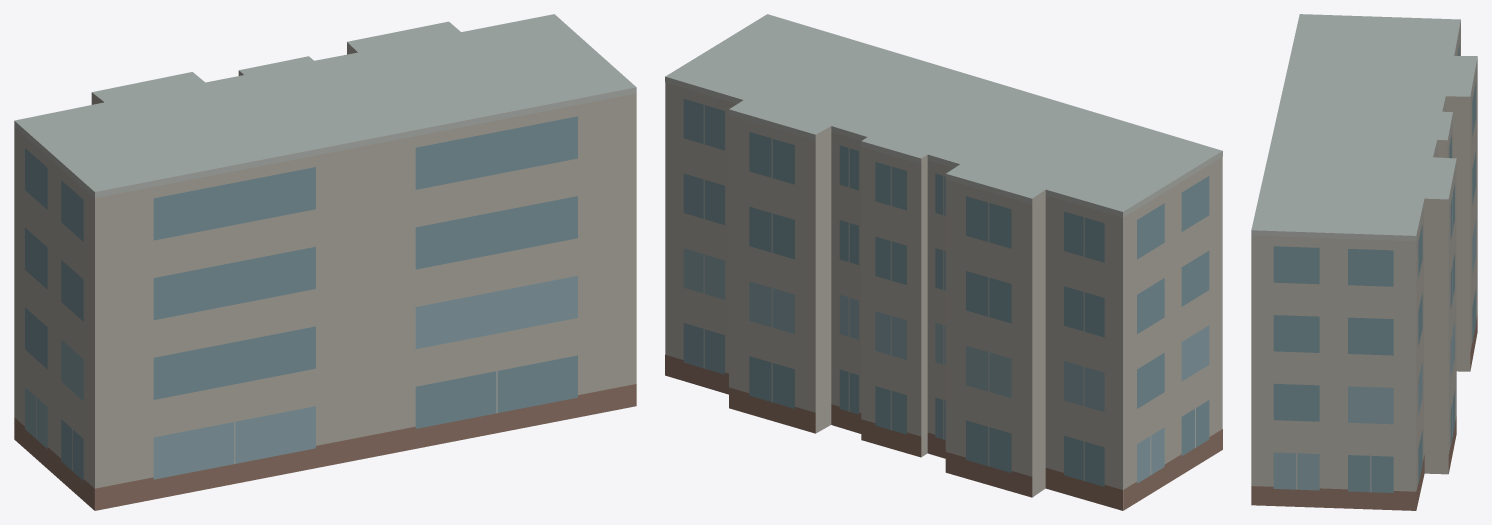
File: survey-upis-32805384.glb
The picture shows the model from 3 angles, left to right: view 1: azimuth 30°, elevation 25°; view 2: azimuth 150°, elevation 25°; view 3: azimuth 270°, elevation 25°; orthographic projection. The views are drawn at different scales.
Visible parts, largest first — view 1: survey-upis-32805384.tmp; view 2: survey-upis-32805384.tmp; view 3: survey-upis-32805384.tmp.
Part boxes in pixels (x1,y1,x2,y2): survey-upis-32805384.tmp: [14, 14, 636, 510]; survey-upis-32805384.tmp: [665, 14, 1222, 510]; survey-upis-32805384.tmp: [1251, 14, 1477, 510].
Size of the model in its own units: 21.99 by 12.7 by 9.49.
